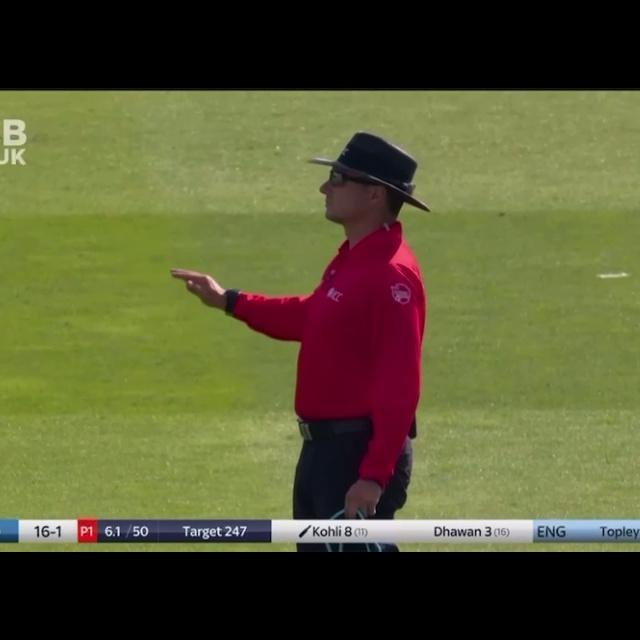umpire: (172, 108, 428, 521)
